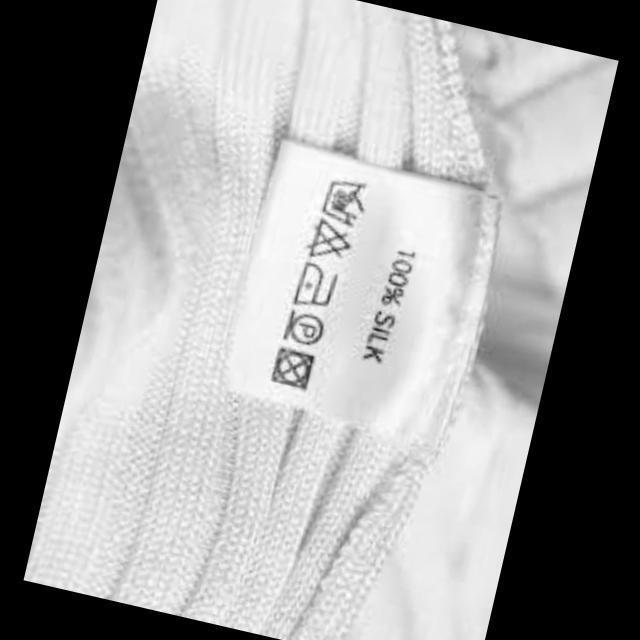DN_bleach: (301, 212, 359, 270)
DN_tumble_dry: (266, 342, 321, 394)
hand_wash: (316, 170, 374, 230)
iron_low: (290, 259, 344, 316)
normal_dry_clean_solvents: (278, 304, 330, 352)
